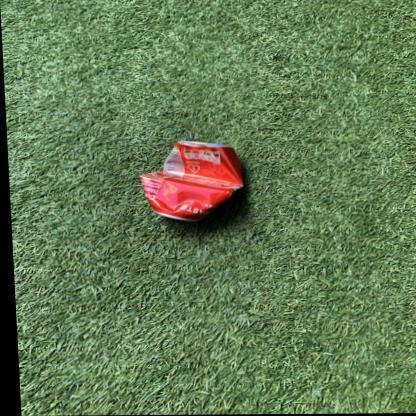trash: (140, 141, 243, 220)
